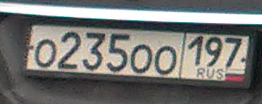character: (107, 30, 130, 74), (58, 30, 82, 72), (81, 31, 106, 71), (33, 37, 57, 71), (153, 45, 178, 76), (130, 44, 153, 75), (223, 36, 243, 67), (205, 35, 222, 68), (187, 34, 204, 66)
